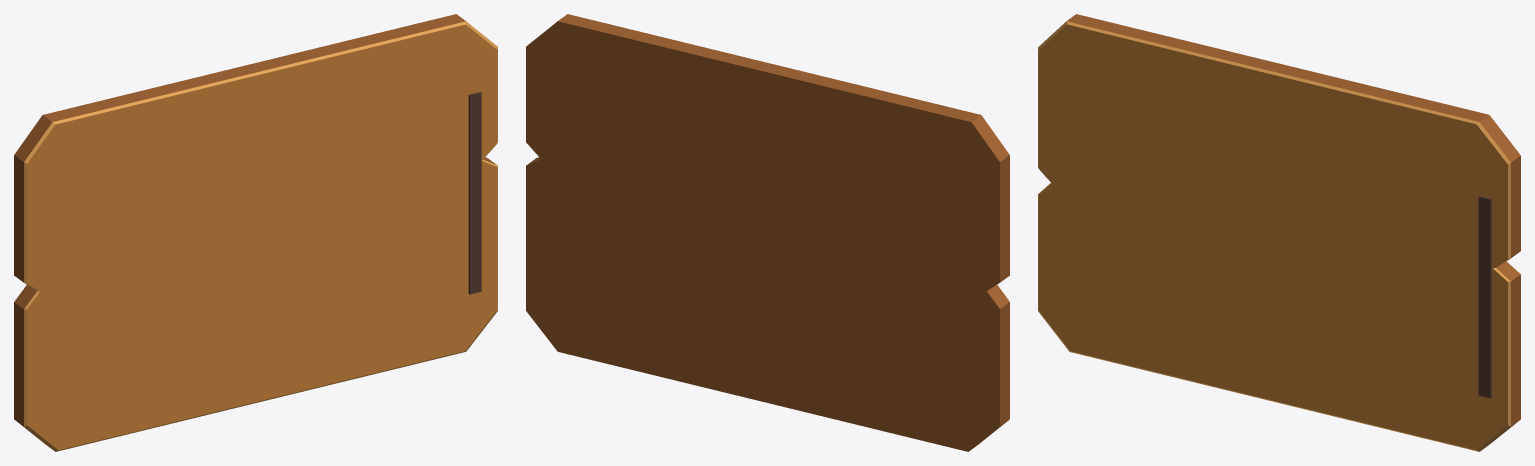
File: Panel.fbx
3 renders of one model, left to right at view 1: azimuth 30°, elevation 25°; view 2: azimuth 150°, elevation 25°; view 3: azimuth 330°, elevation 25°, orthographic.
Visible parts, largest first — view 1: Stone, Track; view 2: Stone; view 3: Stone, Track.
Boxes of the visible parts, x1,y1,x2,y2 form: Stone: [14, 14, 497, 451]; Track: [468, 92, 481, 294]; Stone: [526, 14, 1009, 451]; Stone: [1038, 14, 1520, 451]; Track: [1478, 196, 1491, 398].
Size of the model in its own units: 0.72 by 0.48 by 0.032.
